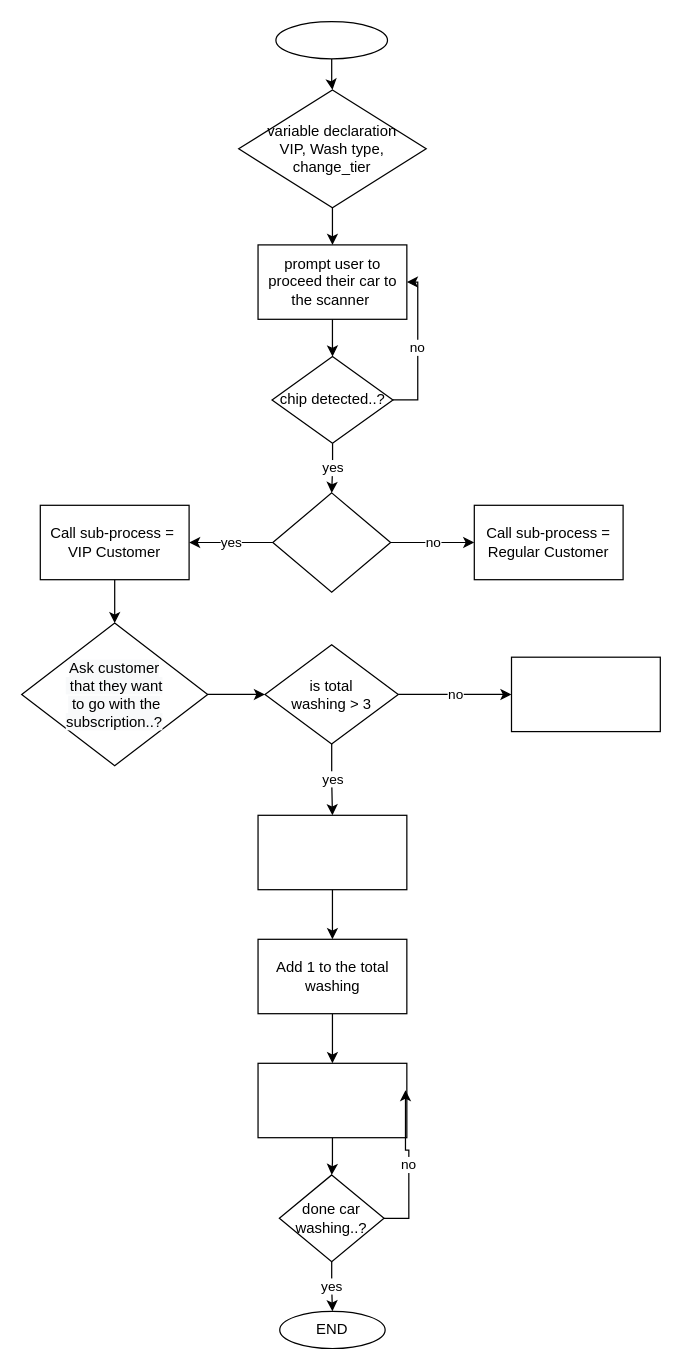
This 682x1370 diagram has some shape labels left out. Here are the shapes that lost their labels. From the top down, the box of each, then its label:
(275, 20, 388, 59): start
(272, 492, 391, 592): vip customer detected..??
(510, 656, 660, 732): Call vip sub-process(override)
(257, 814, 407, 890): Call vip sub-process(normal)
(257, 1062, 407, 1138): proceed car to wash area
